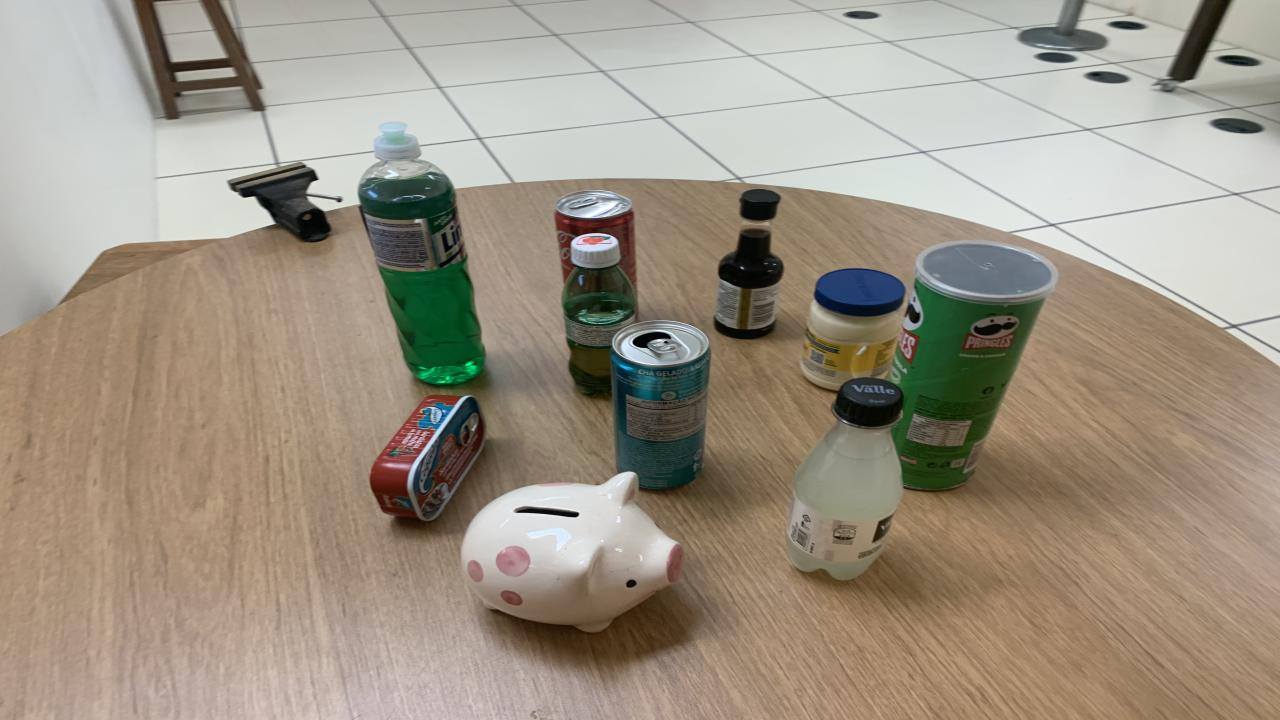Detergent-Cleanup_Items: (358, 122, 485, 384)
English_Sauce-Pantry_Items: (715, 189, 785, 338)
Guarana-Drinks: (562, 232, 635, 394)
Ketchup-Pantry_Items: (555, 189, 638, 287)
Mayonnaise-Pantry_Items: (800, 268, 905, 390)
Pig_Safe-Miscellaneous: (460, 472, 685, 632)
Pringles-Snacks: (890, 240, 1058, 489)
Soda-Drinks: (785, 377, 902, 579)
Tea-Drinks: (610, 321, 710, 489)
Tuna_Can-Pantry_Items: (370, 396, 485, 521)
